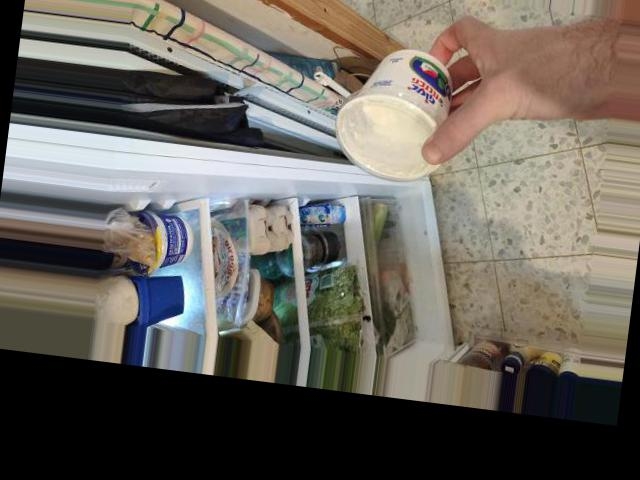cotage: (339, 43, 460, 183)
